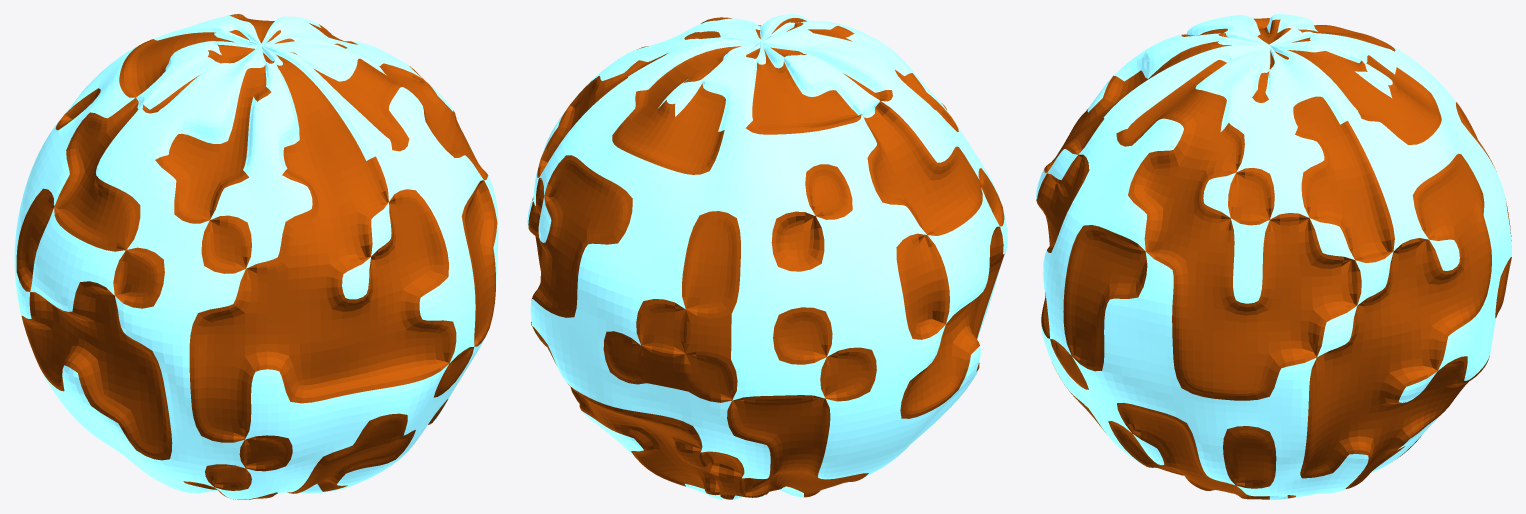
File: planetIceSand.fbx
The picture shows the model from 3 angles, left to right: view 1: azimuth 30°, elevation 25°; view 2: azimuth 150°, elevation 25°; view 3: azimuth 270°, elevation 25°; orthographic projection.
Visible parts, largest first — view 1: Sphere; view 2: Sphere; view 3: Sphere.
Boxes of the visible parts, x1,y1,x2,y2 form: Sphere: (14,14,498,499); Sphere: (527,14,1007,499); Sphere: (1036,14,1511,499).
Bounding box in the file's own units: 200 × 200 × 198.
